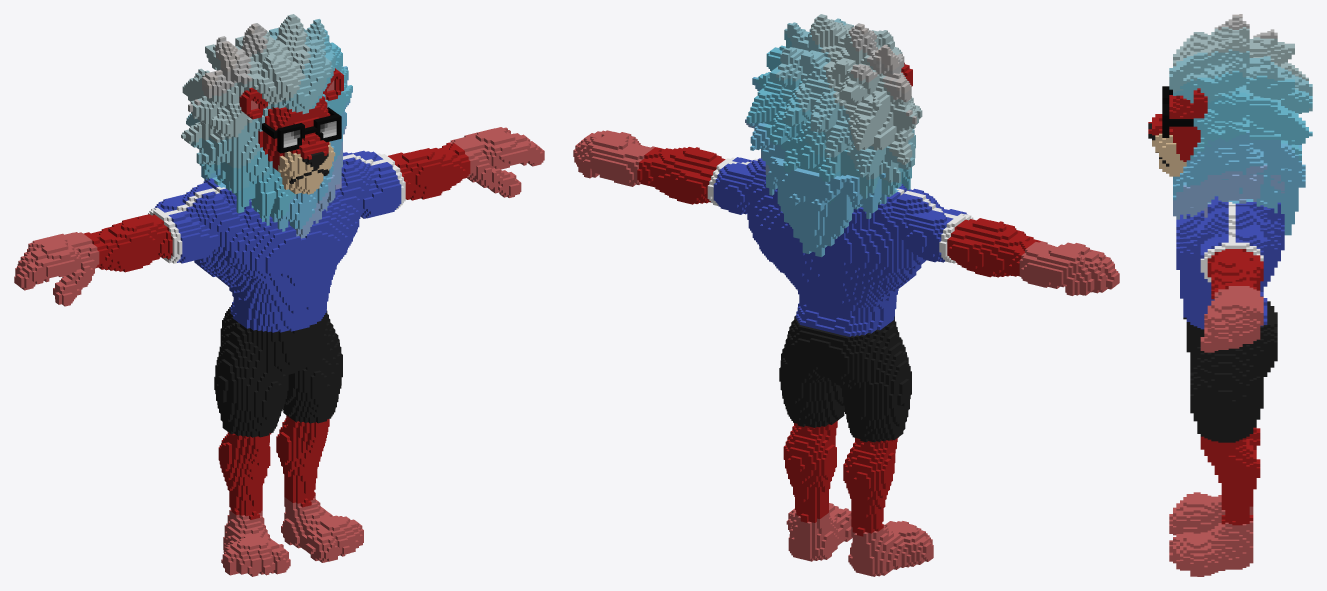
The model's file is 866-DbLKraFQ.glb.
3 views of the same model, side by side, from view 1: azimuth 30°, elevation 25°; view 2: azimuth 150°, elevation 25°; view 3: azimuth 270°, elevation 25° (orthographic). The views are drawn at different scales.
Parts seen in each view (by area): view 1: sad; view 2: sad; view 3: sad.
Boxes of the visible parts, x1,y1,x2,y2 form: sad: (14, 14, 544, 576); sad: (573, 14, 1119, 576); sad: (1148, 14, 1312, 576).
Bounding box in the file's own units: 17.2 × 16.5 × 4.7.
5 materials, 5 textured.
